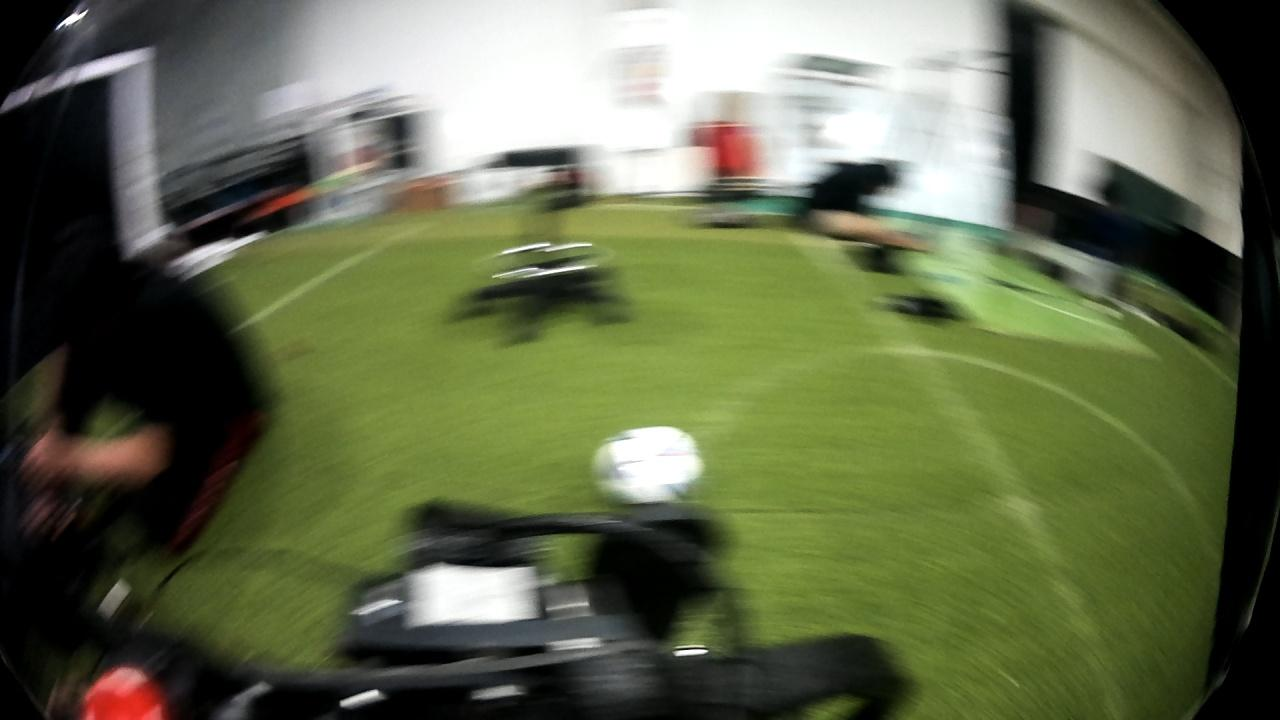ball: (589, 419, 707, 513)
